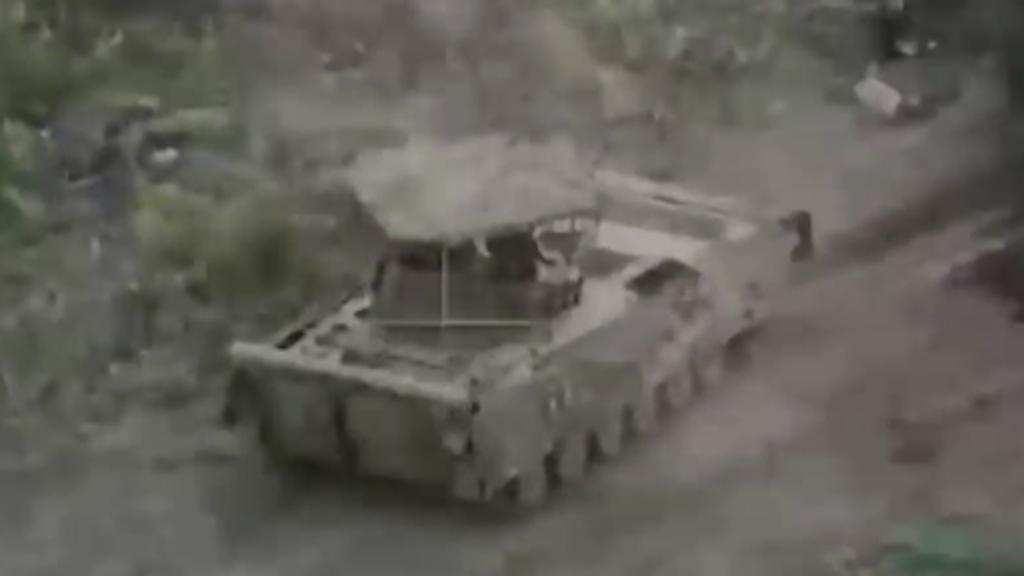APC-IFV: (240, 129, 810, 510)
